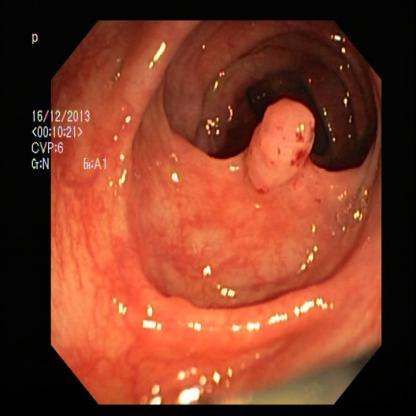Labels: (29, 28, 111, 186)
Polyps: (236, 84, 314, 204)
